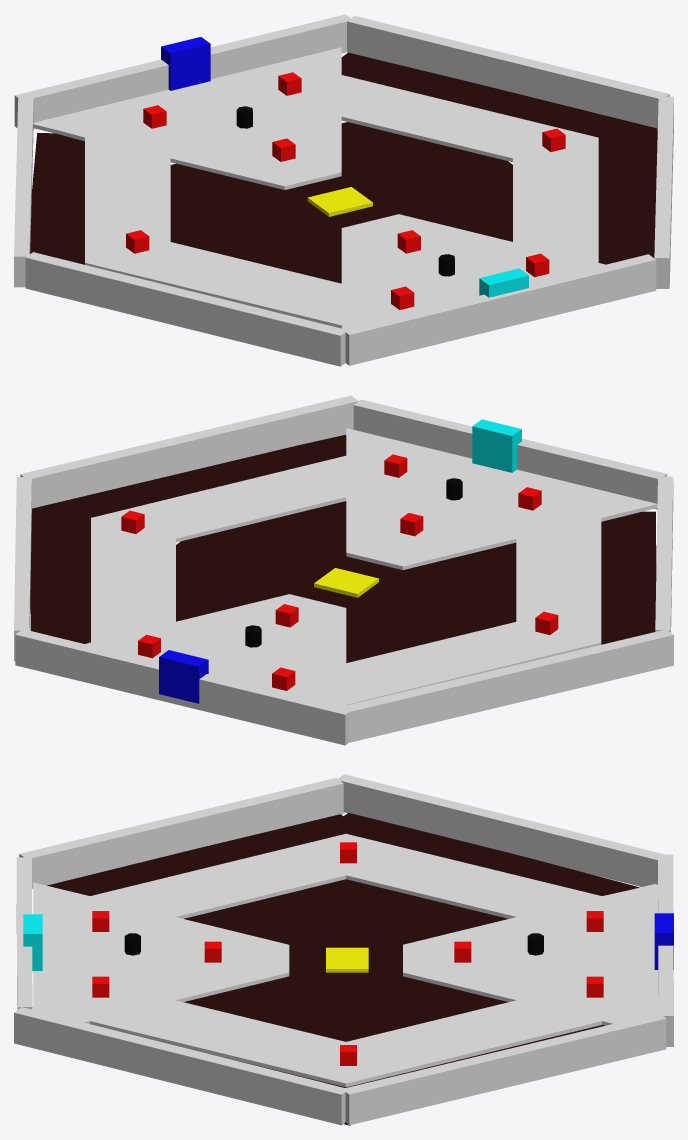
File: Level2_b2.fbx
3 renders of one model, top to bottom at view 1: azimuth 30°, elevation 25°; view 2: azimuth 150°, elevation 25°; view 3: azimuth 270°, elevation 25°, orthographic.
Parts seen in each view (by area): view 1: Cylinder004, Box059, Box034, Box037, Box038, Box039, Box063, Box061, Box062, Box036, Box035, Box004 (+2 smaller); view 2: Cylinder004, Box059, Box035, Box036, Box039, Box038, Box061, Box063, Box060, Box037, Box034, Box003 (+2 smaller); view 3: Cylinder004, Box059, Box036, Box037, Box035, Box034, Box060, Box062, Box039, Box038, Box050, Box003 (+1 smaller).
Part boxes in pixels (x1=…): Cylinder004: x1=33, y1=47, x2=605, y2=328; Box059: x1=76, y1=122, x2=512, y2=283; Box034: x1=25, y1=252, x2=347, y2=366; Box037: x1=347, y1=16, x2=669, y2=128; Box038: x1=344, y1=254, x2=656, y2=365; Box039: x1=14, y1=14, x2=350, y2=128; Box063: x1=543, y1=122, x2=657, y2=264; Box061: x1=341, y1=52, x2=648, y2=164; Box062: x1=30, y1=133, x2=84, y2=264; Box036: x1=654, y1=96, x2=673, y2=288; Box035: x1=14, y1=95, x2=33, y2=287; Box004: x1=161, y1=37, x2=210, y2=90; Cylinder004: x1=85, y1=428, x2=657, y2=706; Box059: x1=176, y1=501, x2=611, y2=662; Box035: x1=336, y1=630, x2=673, y2=742; Box036: x1=20, y1=395, x2=358, y2=508; Box039: x1=15, y1=630, x2=352, y2=745; Box038: x1=353, y1=399, x2=667, y2=509; Box061: x1=30, y1=512, x2=110, y2=643; Box063: x1=32, y1=435, x2=346, y2=543; Box060: x1=601, y1=511, x2=656, y2=644; Box037: x1=14, y1=477, x2=31, y2=661; Box034: x1=655, y1=476, x2=673, y2=632; Box003: x1=472, y1=419, x2=521, y2=472; Cylinder004: x1=33, y1=833, x2=658, y2=1087; Box059: x1=166, y1=873, x2=514, y2=1046; Box036: x1=14, y1=1007, x2=348, y2=1125; Box037: x1=344, y1=1013, x2=666, y2=1125; Box035: x1=337, y1=774, x2=671, y2=886; Box034: x1=19, y1=778, x2=343, y2=888; Box060: x1=47, y1=814, x2=376, y2=895; Box062: x1=303, y1=813, x2=639, y2=895; Box039: x1=658, y1=854, x2=673, y2=1046; Box038: x1=16, y1=857, x2=32, y2=1009; Box050: x1=326, y1=947, x2=368, y2=972; Box003: x1=23, y1=914, x2=42, y2=971.
Bounding box in the file's own units: 559 × 36.7 × 486.
